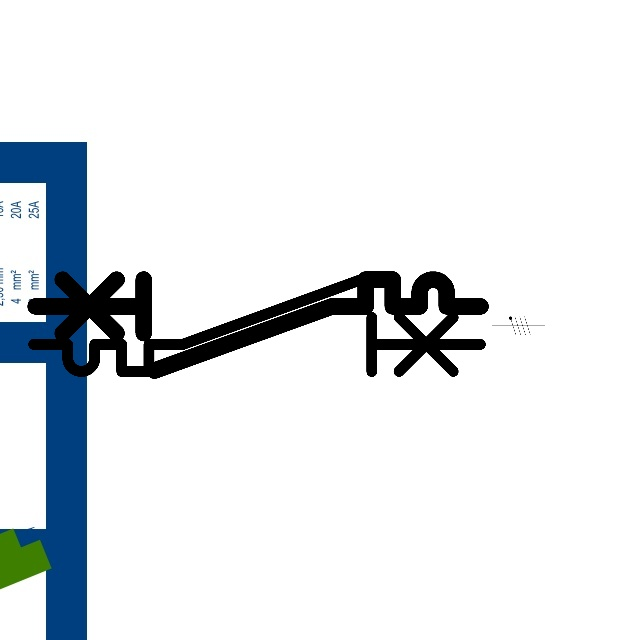interruptor_termomagnetico: (22, 268, 492, 383), (24, 268, 492, 382)
